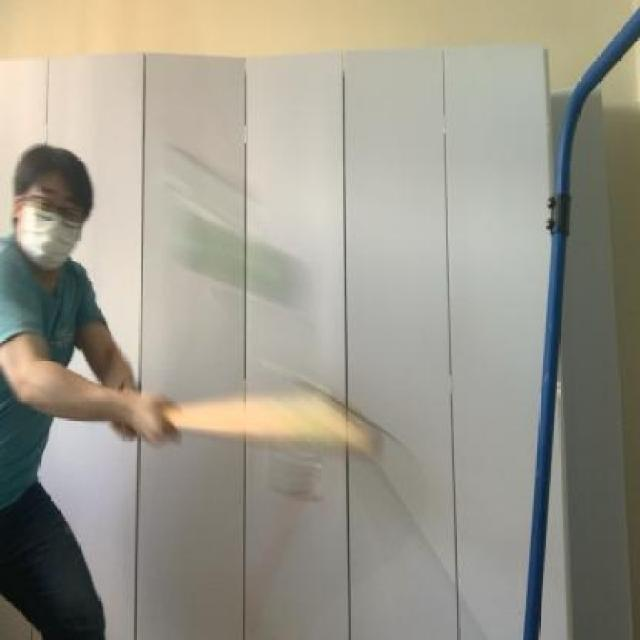baseball: (168, 199, 318, 324)
